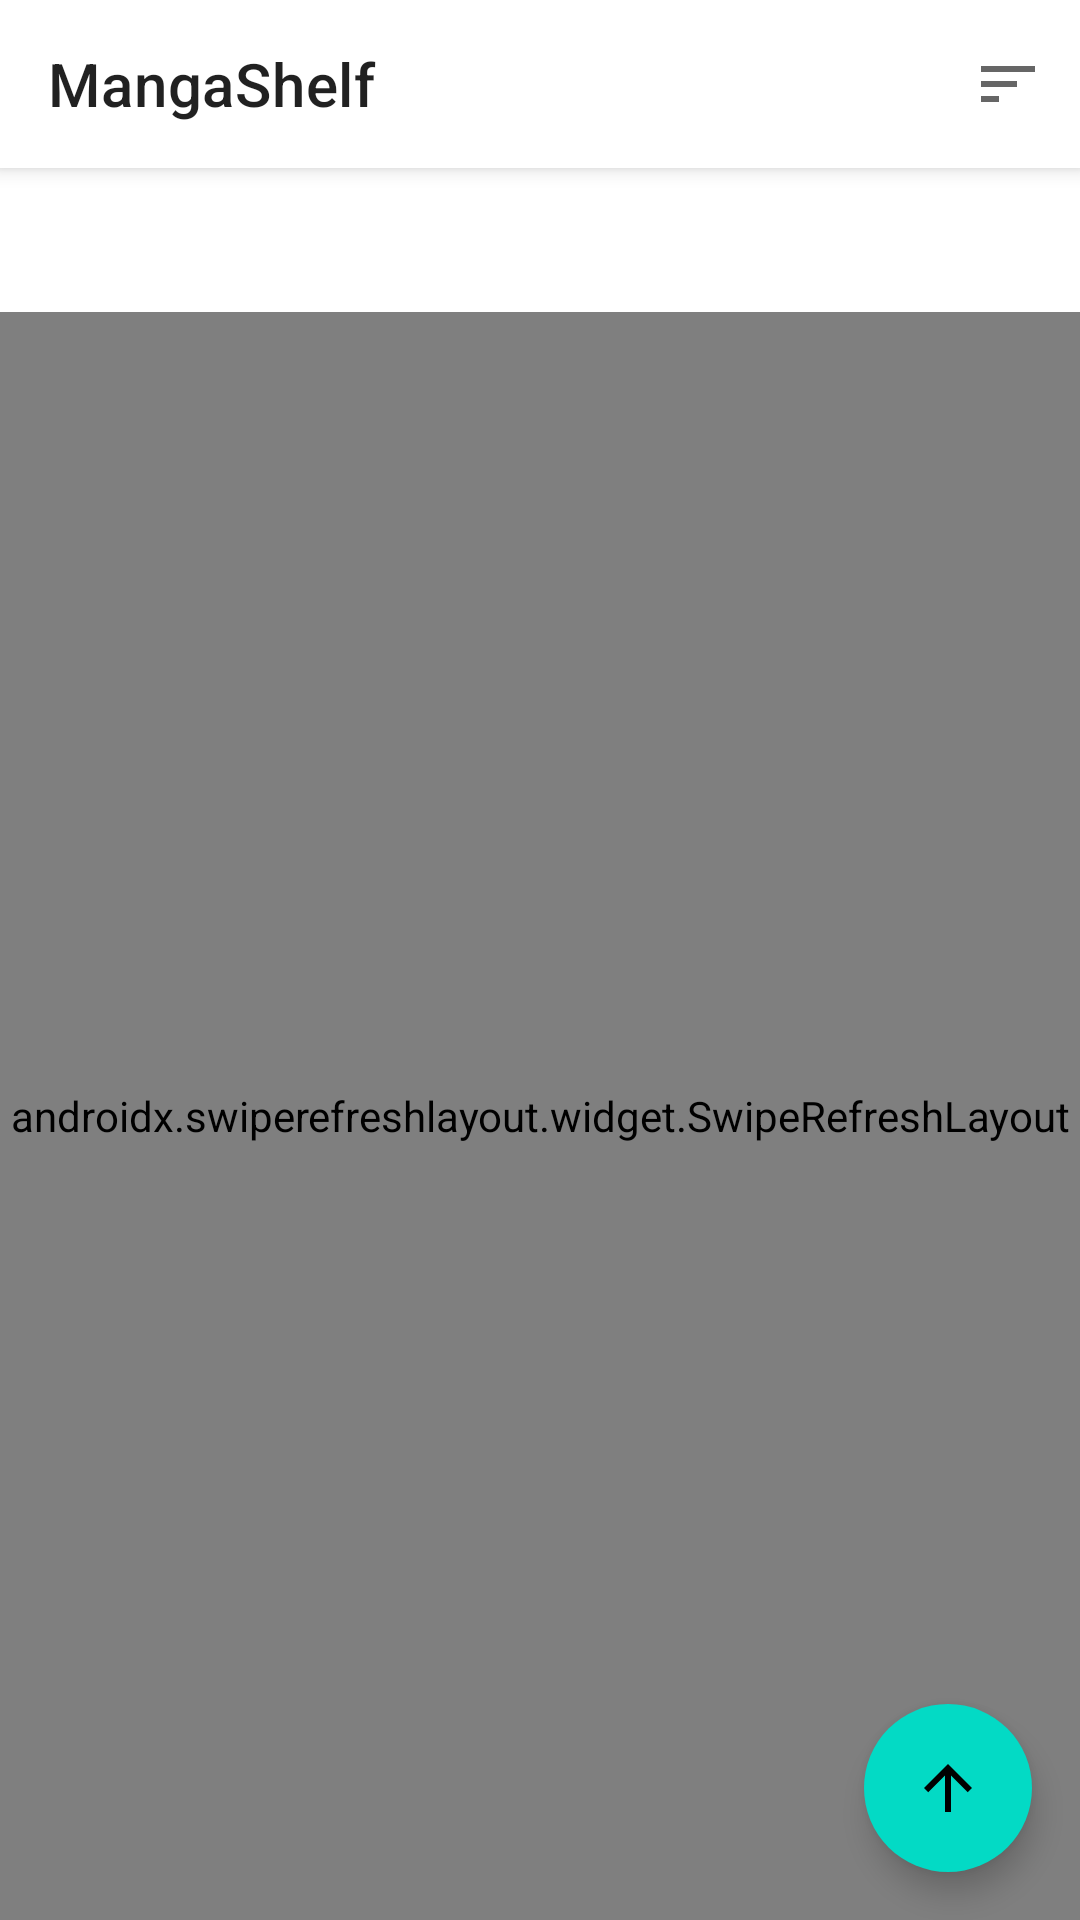

Named icons in this screenshot (1080px x 1920px) and their centers, (x=x, y=y):
arrow upward: (x=948, y=1788)
